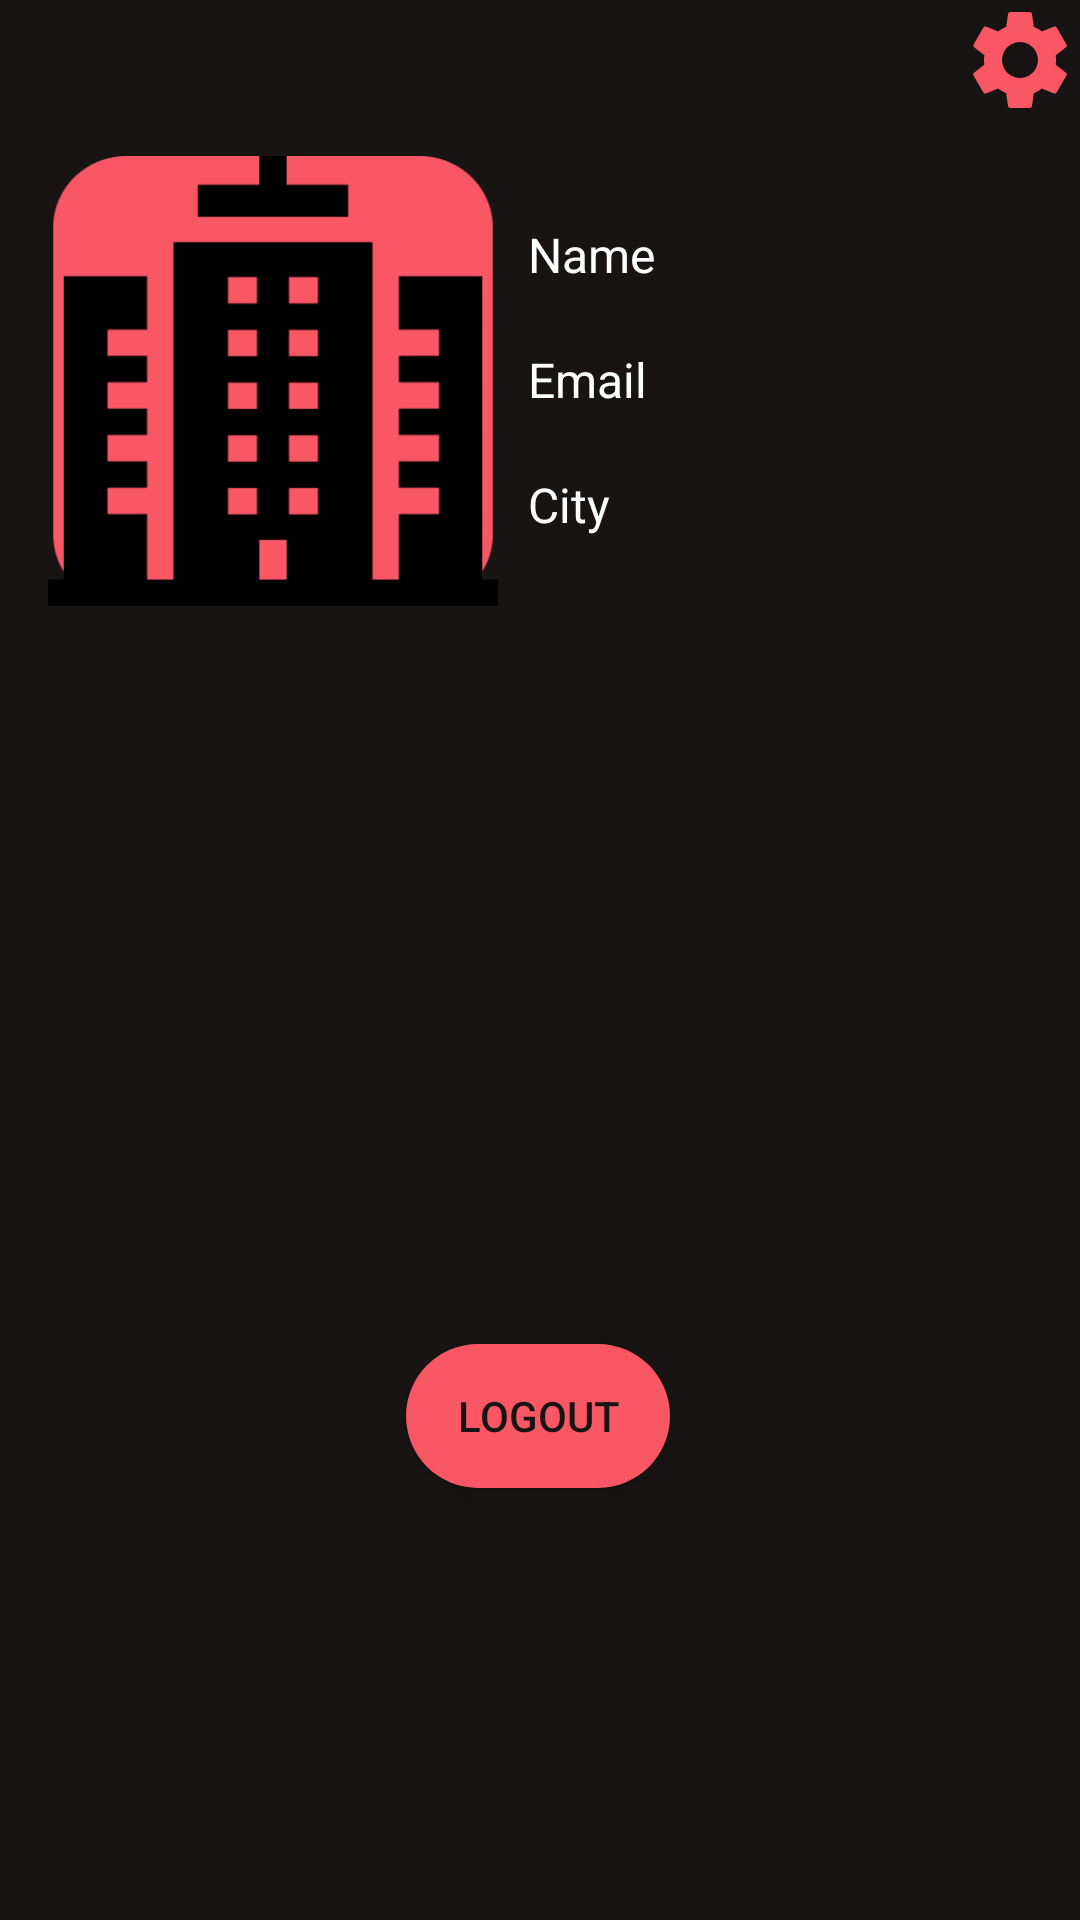

Point at icon controls on the screen. Image size 1080w x 1920h, points as (x,y).
settings: (1020,60)
